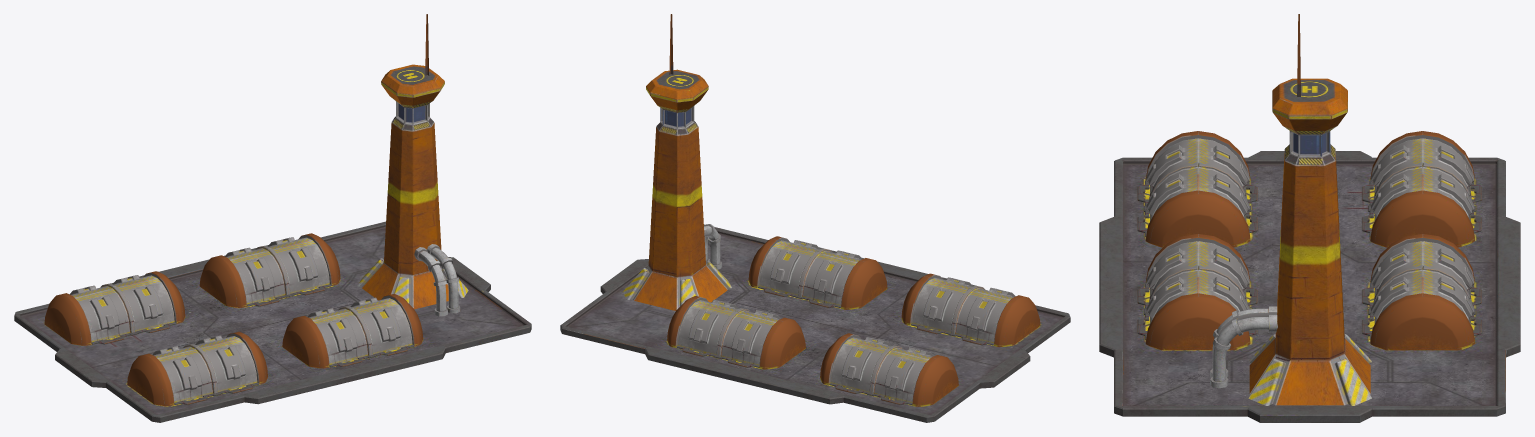
The model's file is airfield_base.glb.
3 views of the same model, side by side, from view 1: azimuth 30°, elevation 25°; view 2: azimuth 150°, elevation 25°; view 3: azimuth 270°, elevation 25° (orthographic). The views are drawn at different scales.
Parts seen in each view (by area): view 1: Cube.004, Cube.005, Cylinder.018, Cylinder.009, Cylinder.014, Cylinder.002, Cylinder.008, Cylinder.013, Cylinder, Cylinder.017, Plane, Plane.007 (+4 smaller); view 2: Cube.004, Cube.005, Cylinder.004, Cylinder.019, Cylinder.015, Cylinder.011, Cylinder.013, Cylinder, Cylinder.008, Cylinder.017, Cylinder.018, Cylinder.009 (+3 smaller); view 3: Cube.004, Cube.005, Cylinder.008, Cylinder.013, Cylinder, Cylinder.017, Cylinder.018, Cylinder.019, Cylinder.015, Cylinder.014, Cylinder.002, Cylinder.009 (+8 smaller).
Part boxes in pixels (x1,y1,x2,y2): Cube.004: [14, 221, 531, 422]; Cube.005: [357, 64, 468, 309]; Cylinder.018: [313, 300, 412, 364]; Cylinder.009: [230, 240, 329, 304]; Cylinder.014: [157, 338, 257, 402]; Cylinder.002: [75, 278, 174, 341]; Cylinder.008: [199, 233, 340, 307]; Cylinder.013: [127, 331, 267, 406]; Cylinder: [44, 271, 185, 345]; Cylinder.017: [282, 294, 423, 368]; Plane: [414, 247, 447, 316]; Plane.007: [427, 244, 460, 313]; Cube.004: [560, 224, 1070, 422]; Cube.005: [622, 69, 731, 310]; Cylinder.004: [912, 280, 1009, 342]; Cylinder.019: [677, 302, 775, 365]; Cylinder.015: [830, 340, 928, 402]; Cylinder.011: [759, 243, 856, 305]; Cylinder.013: [901, 273, 1040, 347]; Cylinder: [820, 333, 958, 406]; Cylinder.008: [667, 296, 805, 369]; Cylinder.017: [748, 236, 887, 309]; Cylinder.018: [777, 240, 862, 262]; Cylinder.009: [695, 299, 780, 322]; Cube.004: [1099, 151, 1520, 422]; Cube.005: [1248, 78, 1371, 405]; Cylinder.008: [1370, 233, 1474, 350]; Cylinder.013: [1145, 131, 1250, 247]; Cylinder: [1370, 131, 1474, 247]; Cylinder.017: [1145, 233, 1250, 350]; Cylinder.018: [1146, 241, 1198, 323]; Cylinder.019: [1422, 241, 1474, 324]; Cylinder.015: [1422, 138, 1474, 221]; Cylinder.014: [1146, 138, 1198, 221]; Cylinder.002: [1371, 138, 1422, 220]; Cylinder.009: [1371, 241, 1422, 323].
Bounding box in the file's own units: 3.13 × 2.11 × 2.11.
Materials: 1 (1 with a texture image).
